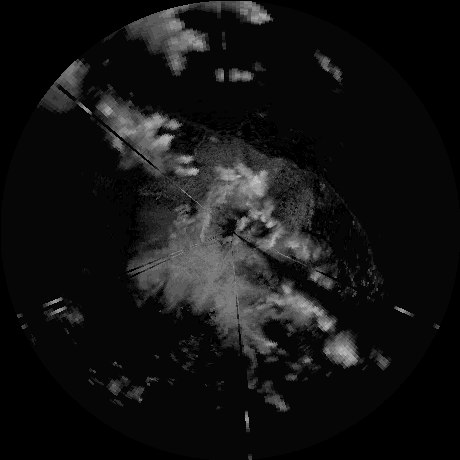frontgust: (320, 179, 379, 289)
